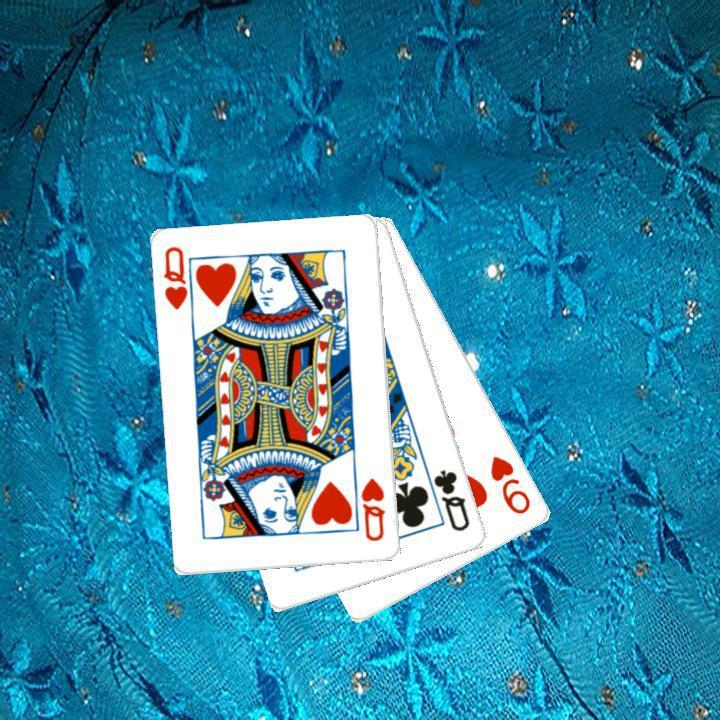9: (486, 451, 533, 517)
Q: (430, 465, 473, 534), (160, 242, 197, 320), (357, 474, 388, 544)
